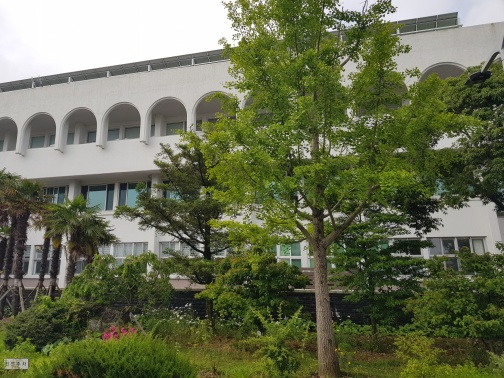Main Building of University: (12, 23, 504, 287), (62, 81, 190, 150)
